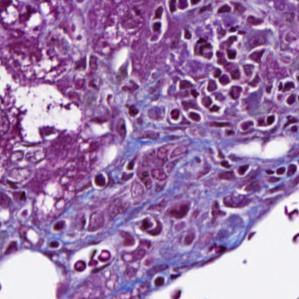inflammation: (68, 239, 119, 275), (88, 165, 116, 195)
